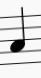note: (7, 4, 28, 68)
